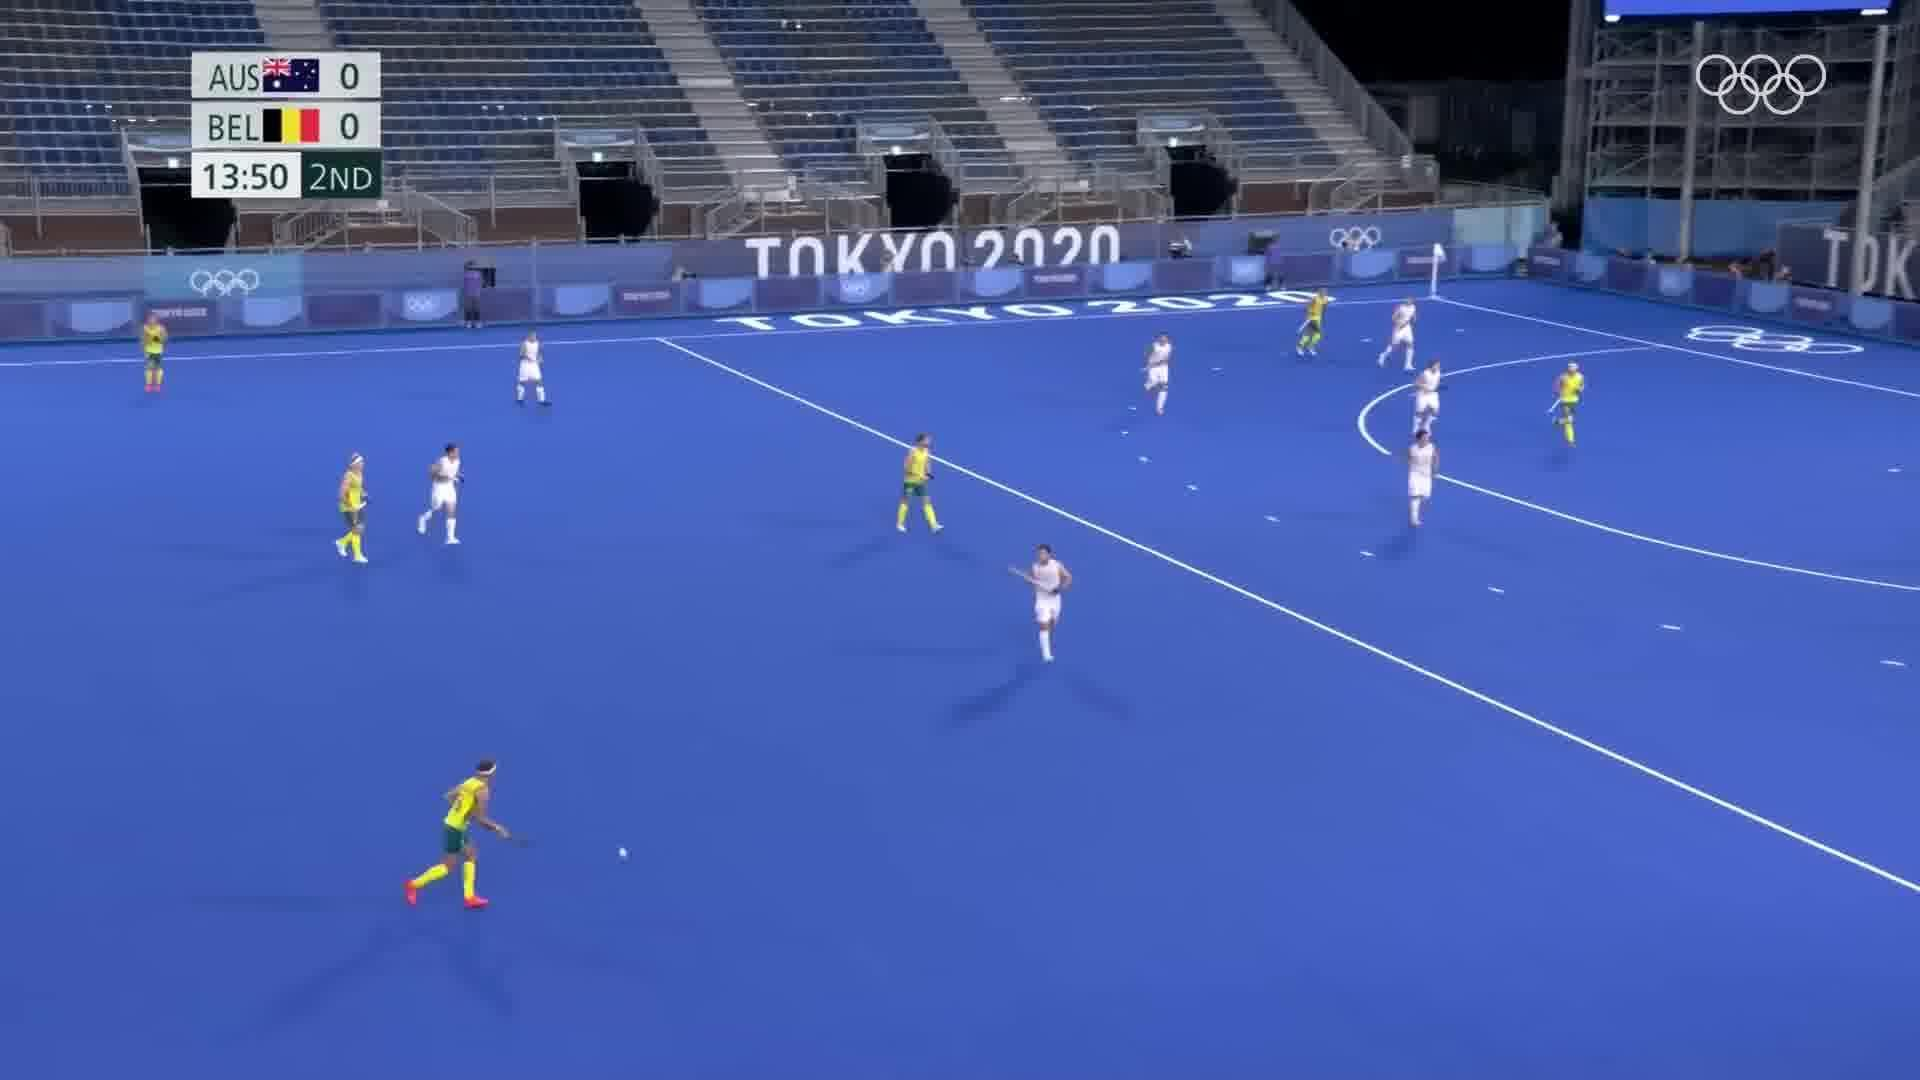ball: (611, 839, 632, 870)
